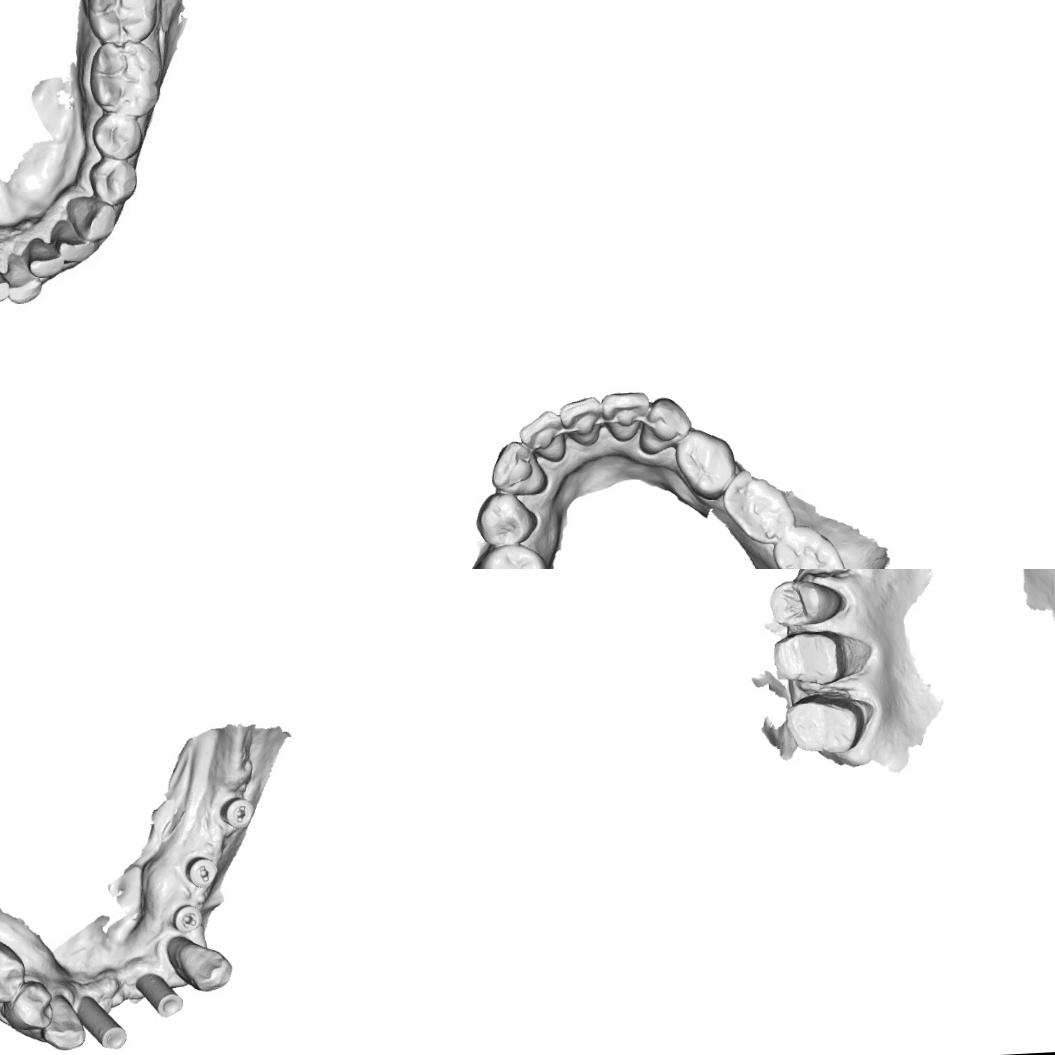canine: (486, 438, 549, 498), (636, 394, 691, 460), (63, 192, 125, 246), (176, 939, 234, 994), (38, 990, 87, 1052)
crown: (779, 690, 868, 759), (769, 628, 850, 688)
implant: (76, 991, 128, 1053), (132, 966, 184, 1019), (218, 794, 256, 830)
implant_minus: (183, 852, 220, 890)
implant_plus: (170, 901, 204, 935)
incisor: (516, 407, 570, 465), (598, 387, 652, 444), (556, 392, 602, 450), (53, 222, 95, 268), (8, 250, 42, 302), (31, 240, 63, 280), (0, 255, 11, 307)
molar: (720, 466, 798, 547), (85, 39, 163, 115), (768, 520, 848, 569), (81, 0, 156, 43), (472, 541, 551, 569)
premolar: (670, 426, 738, 501), (473, 488, 542, 548), (768, 575, 842, 630), (2, 978, 56, 1032), (92, 106, 144, 158), (92, 156, 138, 202), (0, 940, 27, 1006)
